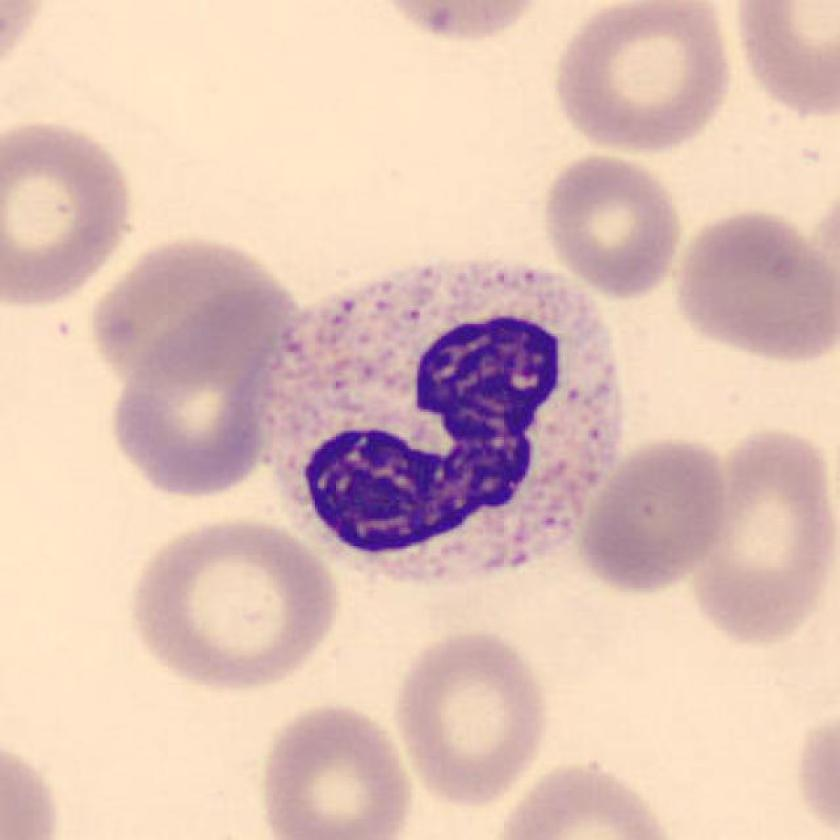neutrophil: (264, 261, 621, 582)
